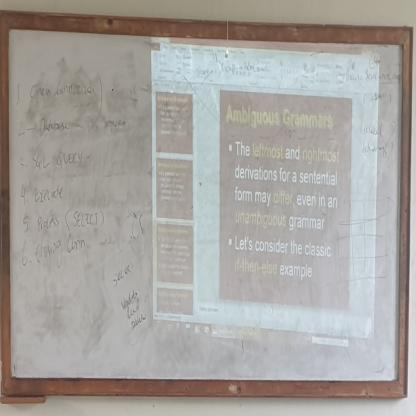Handwritten text: (104, 255, 154, 342), (33, 231, 90, 280), (27, 72, 97, 106), (29, 146, 87, 177), (36, 109, 71, 141), (32, 181, 65, 206), (33, 209, 64, 232), (73, 205, 100, 231)
Whiteboard: (1, 24, 406, 390)
